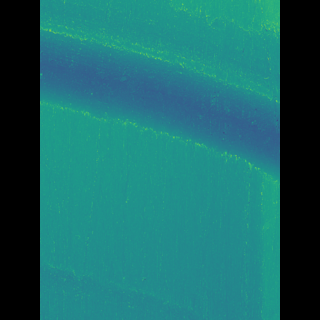Loch: (70, 0, 250, 184)
